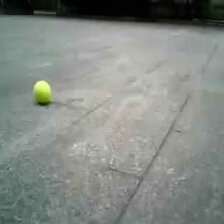tennis: (34, 82, 50, 100)
